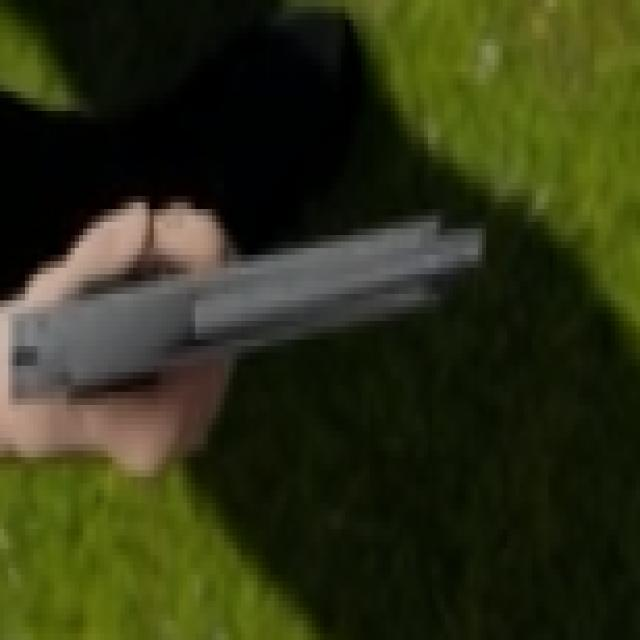FPistol: (8, 198, 504, 446)
